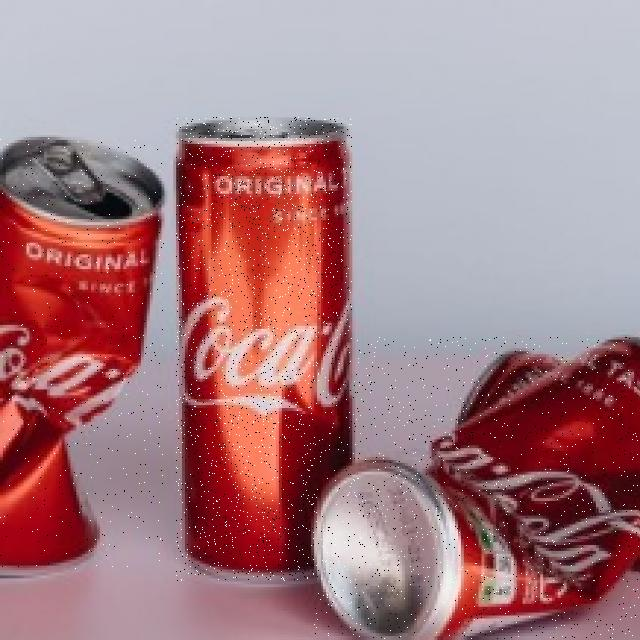metal: (314, 337, 640, 639), (176, 118, 352, 581), (0, 138, 164, 569)
